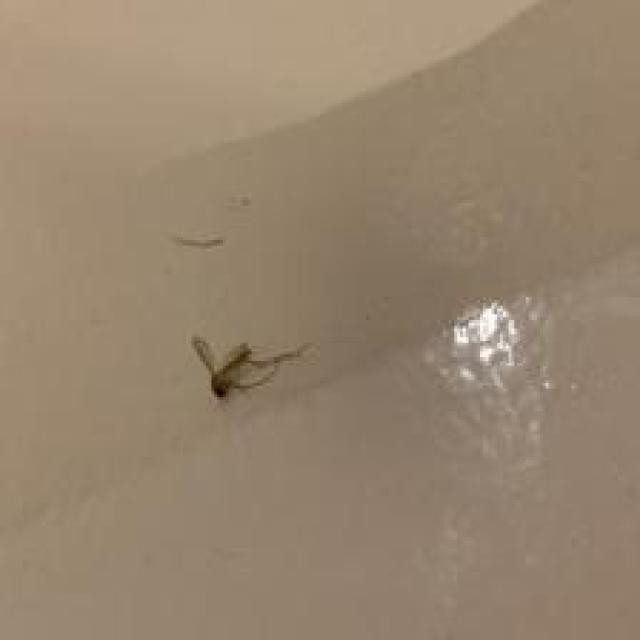Culex: (192, 333, 312, 401)
